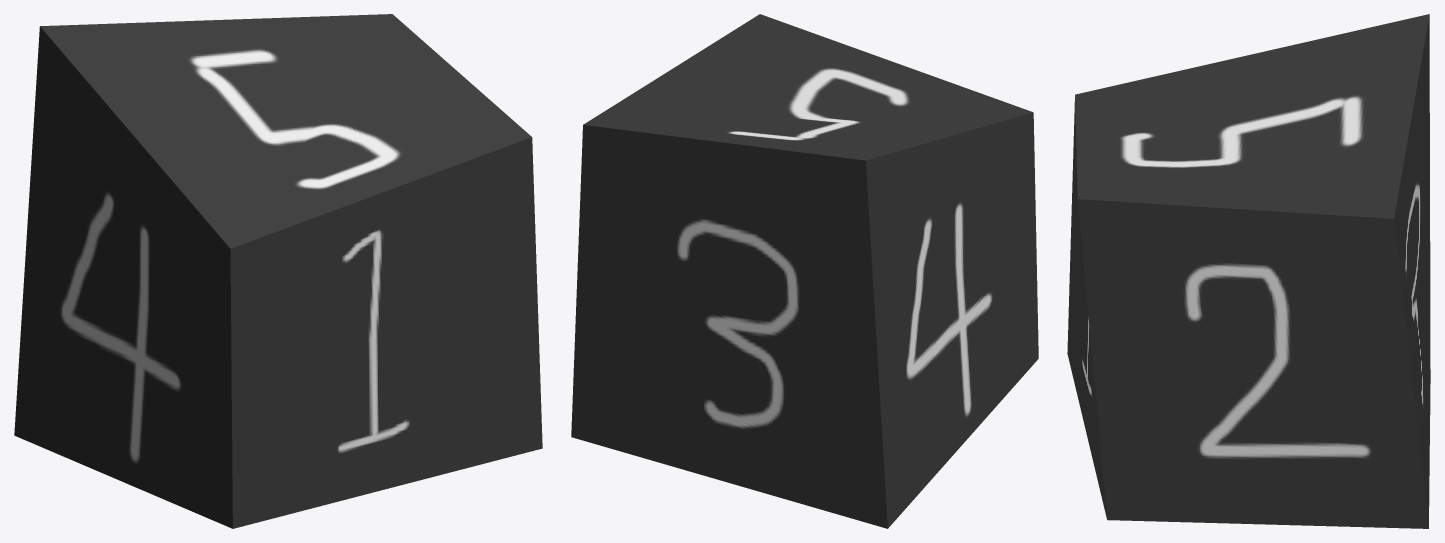
3 views of the same model, side by side, from view 1: azimuth 30°, elevation 25°; view 2: azimuth 150°, elevation 25°; view 3: azimuth 270°, elevation 25° (orthographic). The views are drawn at different scales.
Visible parts, largest first — view 1: Cube; view 2: Cube; view 3: Cube.
Part boxes in pixels (bbox=[...]): Cube: bbox=[14, 14, 542, 528]; Cube: bbox=[571, 14, 1038, 528]; Cube: bbox=[1067, 14, 1430, 528].
Bounding box in the file's own units: 217 × 233 × 202.
1 material, 1 textured.
